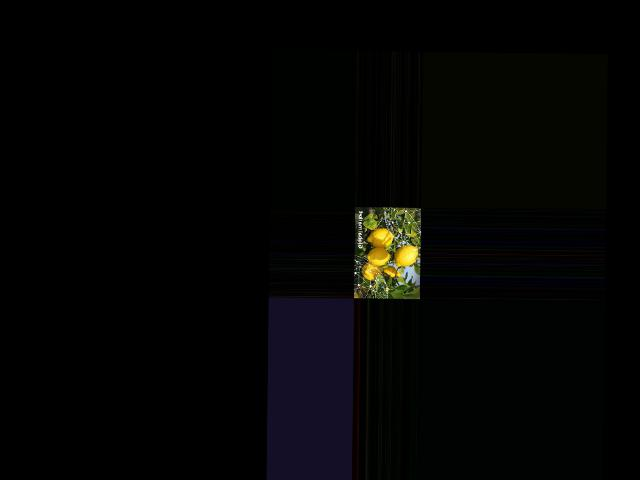lemon: (393, 244, 419, 267)
